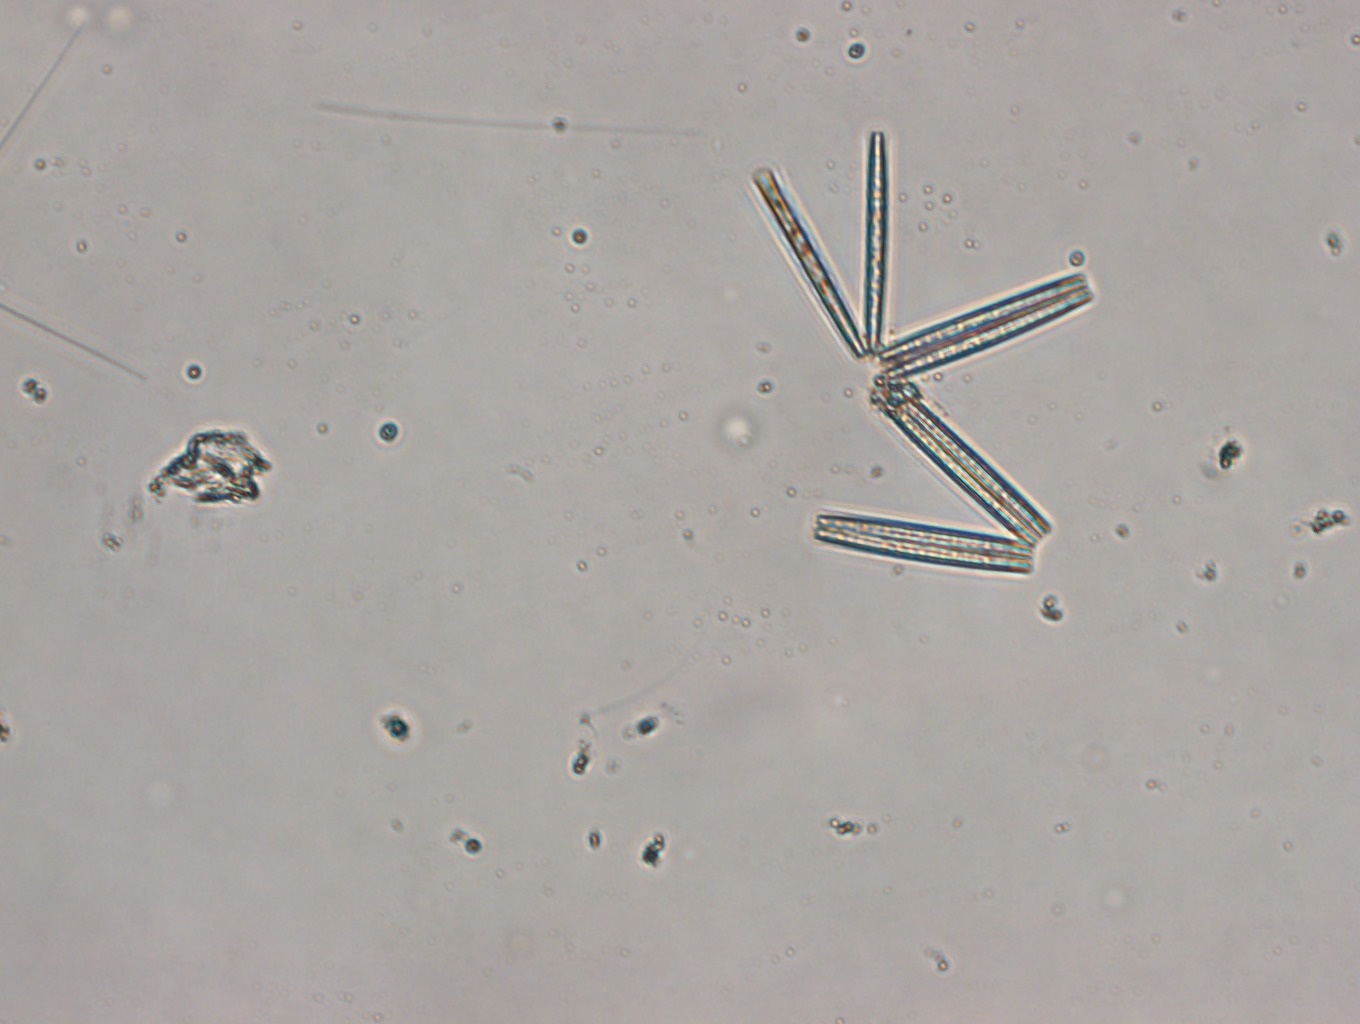thalassionema nitzschioides: (749, 131, 1098, 574)
